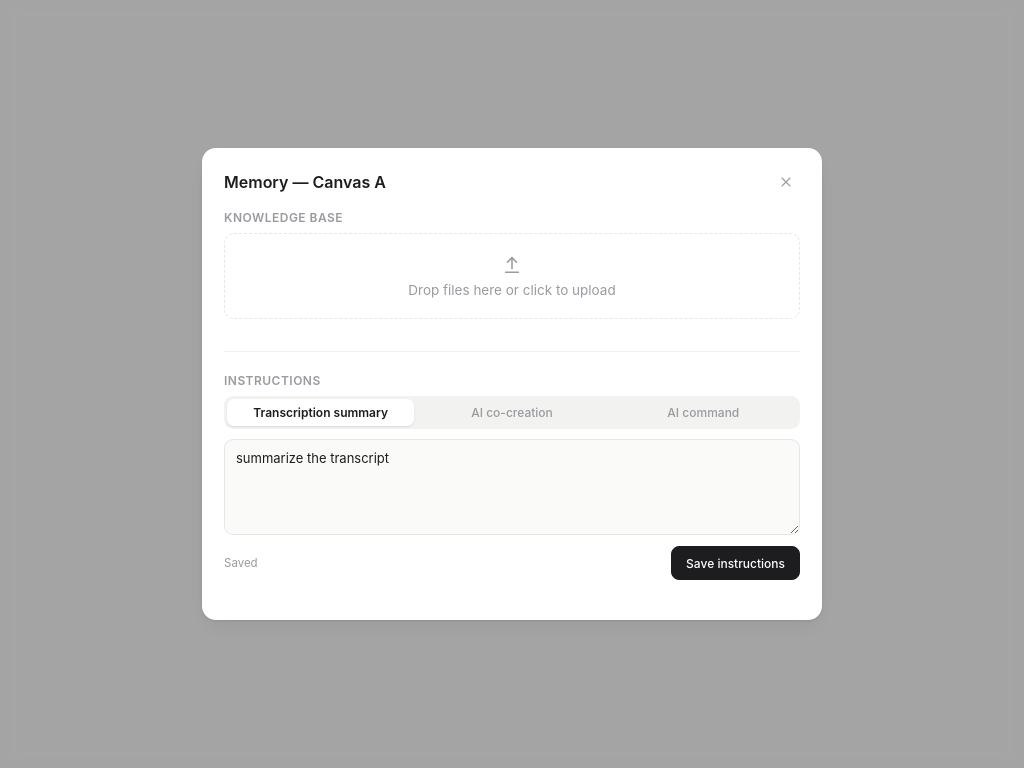
Test: ProjectMemoryModal — instructions tabs › switching tabs swaps the textarea content
This screenshot has width=1024, height=768.
expect the text box named "transcription summary" holds "summarize the transcript": met, box [224,439,800,535]
// Switch to AI co-creation.
Step 1. Click the tab "AI co-creation" → (512, 413), box [418,399,606,426]
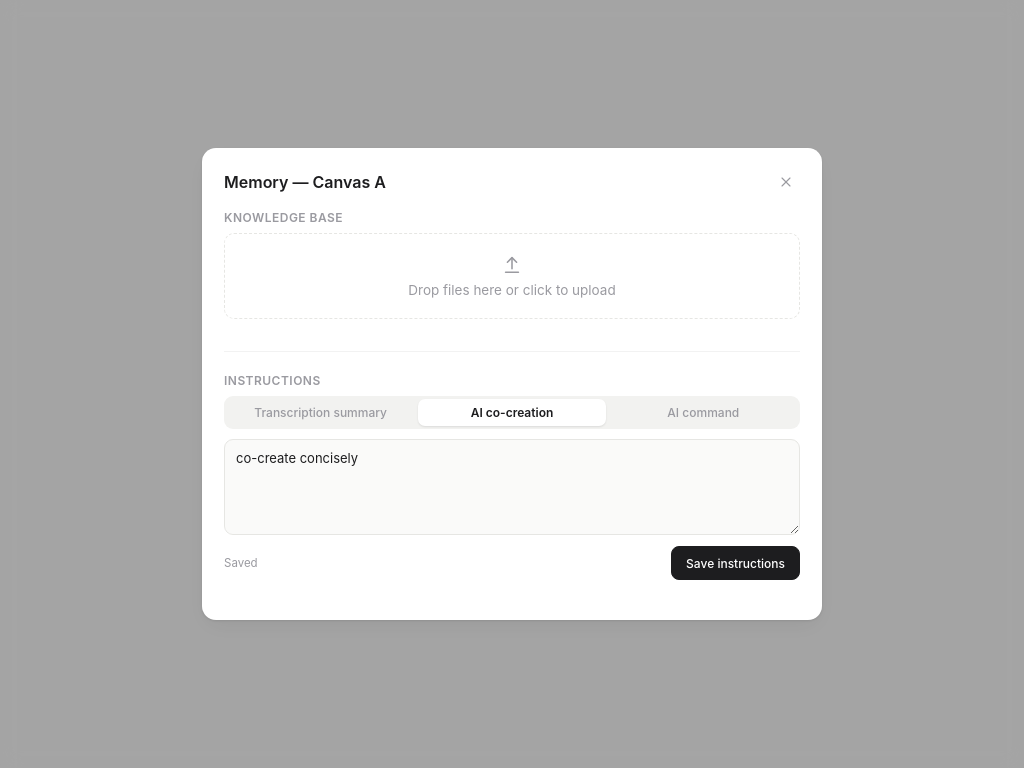
expect the text box named "ai co-creation" holds "co-create concisely": met, box [224,439,800,535]
// Switch to AI command.
Step 2. Click the tab "AI command" → (703, 413), box [610,399,797,426]
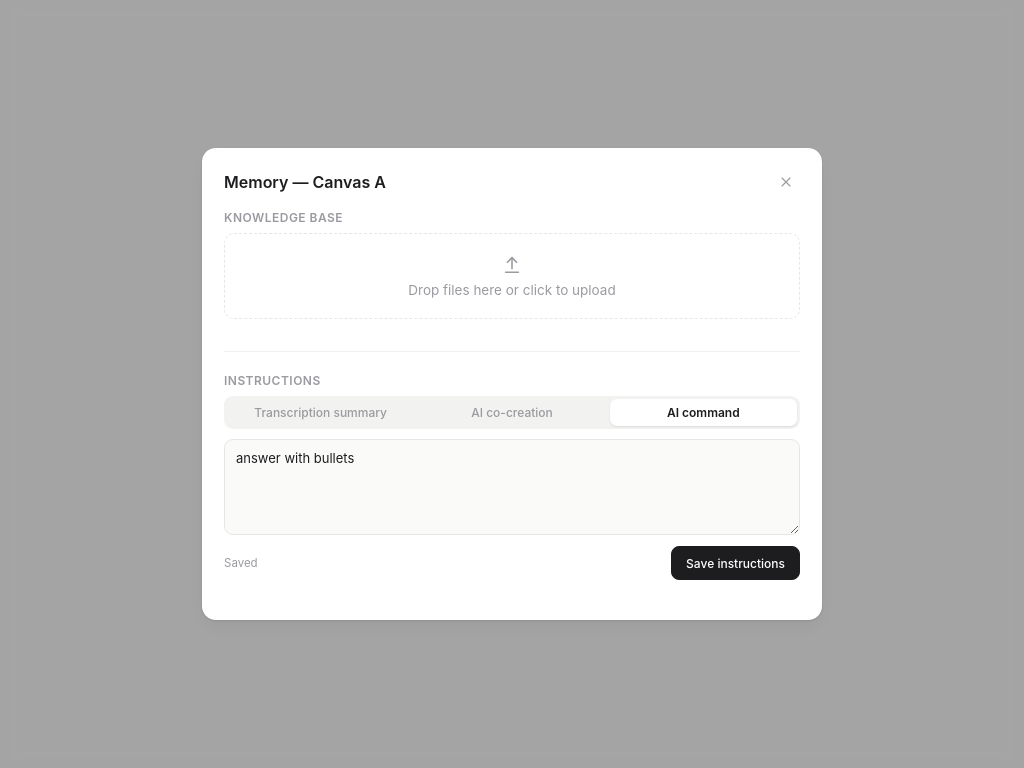
expect the text box named "ai command" holds "answer with bullets": met, box [224,439,800,535]
